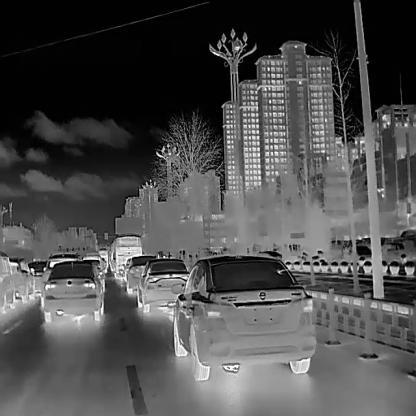car: (172, 253, 317, 380), (42, 258, 105, 321), (135, 257, 189, 312), (111, 233, 143, 279), (125, 253, 158, 295), (8, 255, 36, 303), (0, 248, 16, 313)
